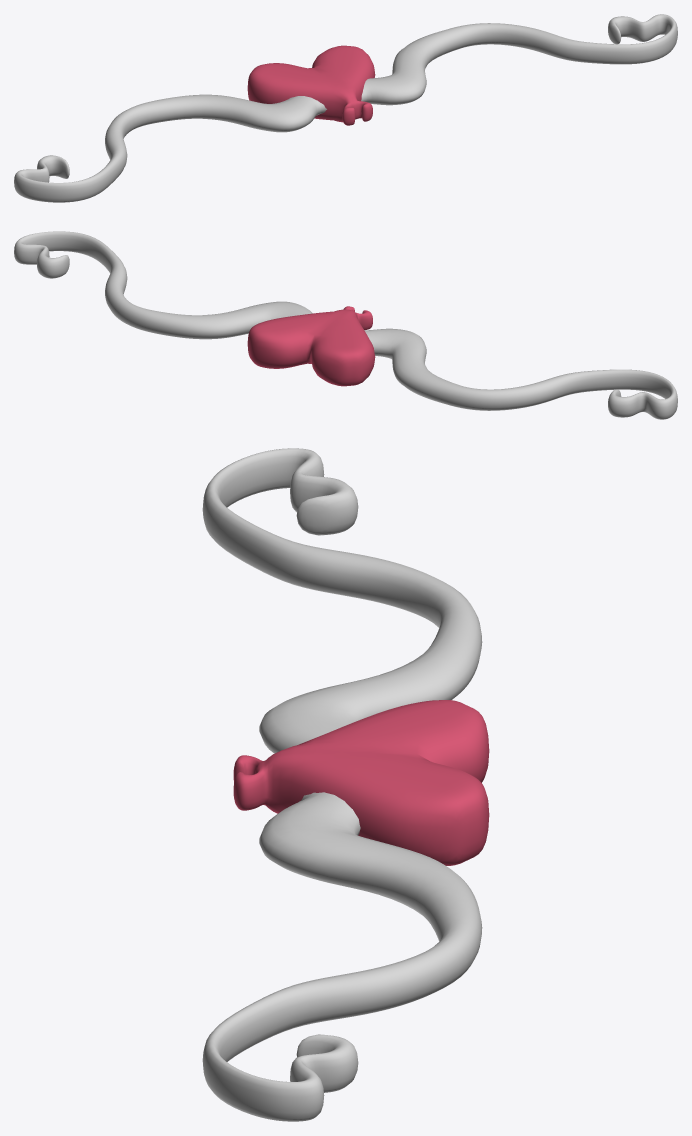
The model's file is Bogen.fbx.
3 views of the same model, one above another, from view 1: azimuth 30°, elevation 25°; view 2: azimuth 150°, elevation 25°; view 3: azimuth 270°, elevation 25° (orthographic). The views are drawn at different scales.
Parts seen in each view (by area): view 1: Bogen, Herz; view 2: Bogen, Herz; view 3: Bogen, Herz.
Part boxes in pixels (x1,y1,x2,y2): Bogen: (14, 14, 677, 202); Herz: (247, 45, 375, 125); Bogen: (14, 231, 677, 419); Herz: (247, 306, 375, 386); Bogen: (202, 448, 482, 1121); Herz: (233, 700, 489, 865).
Bounding box in the file's own units: 2684 × 135 × 507.
